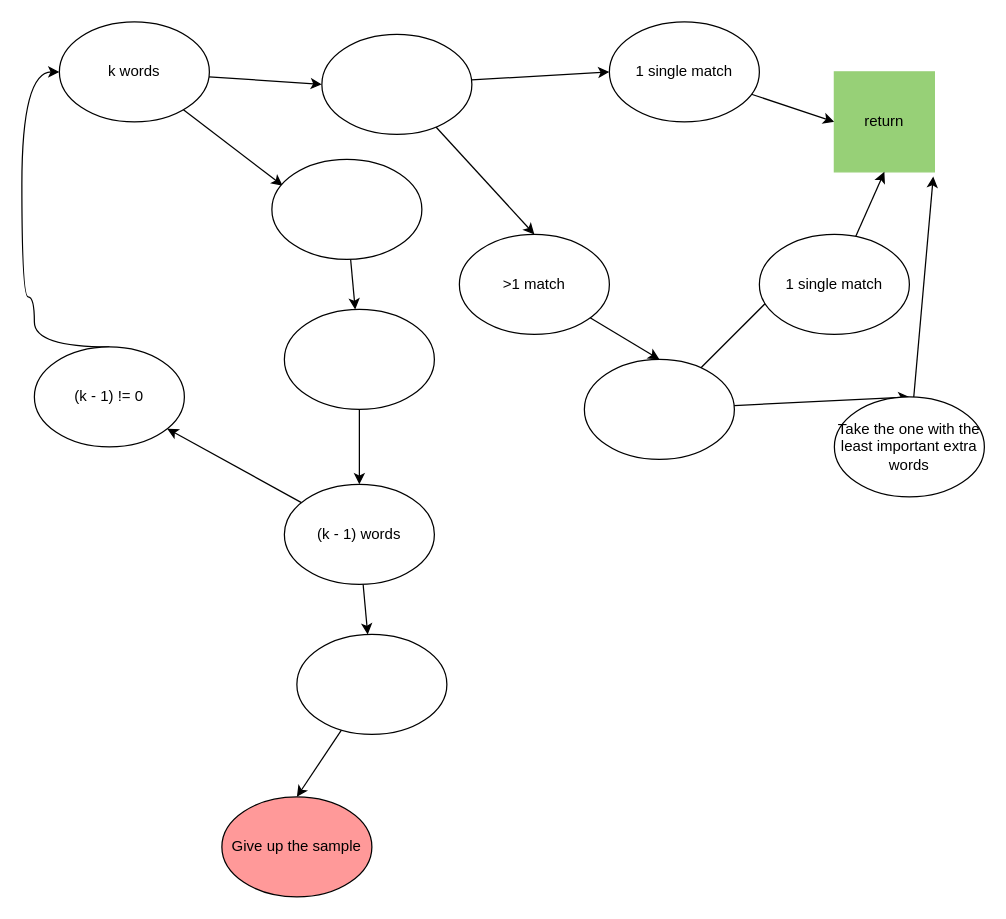
Image size: 1006x919. Some labels were removed from this diagram. Each missing label, with the centre of its shape:
"erase least important word" goes at (x=358, y=358).
"k == 0" goes at (x=371, y=683).
"no match" goes at (x=346, y=208).
"Take the match which has the min number of words" goes at (x=658, y=408).
"there is a match" goes at (x=396, y=83).
